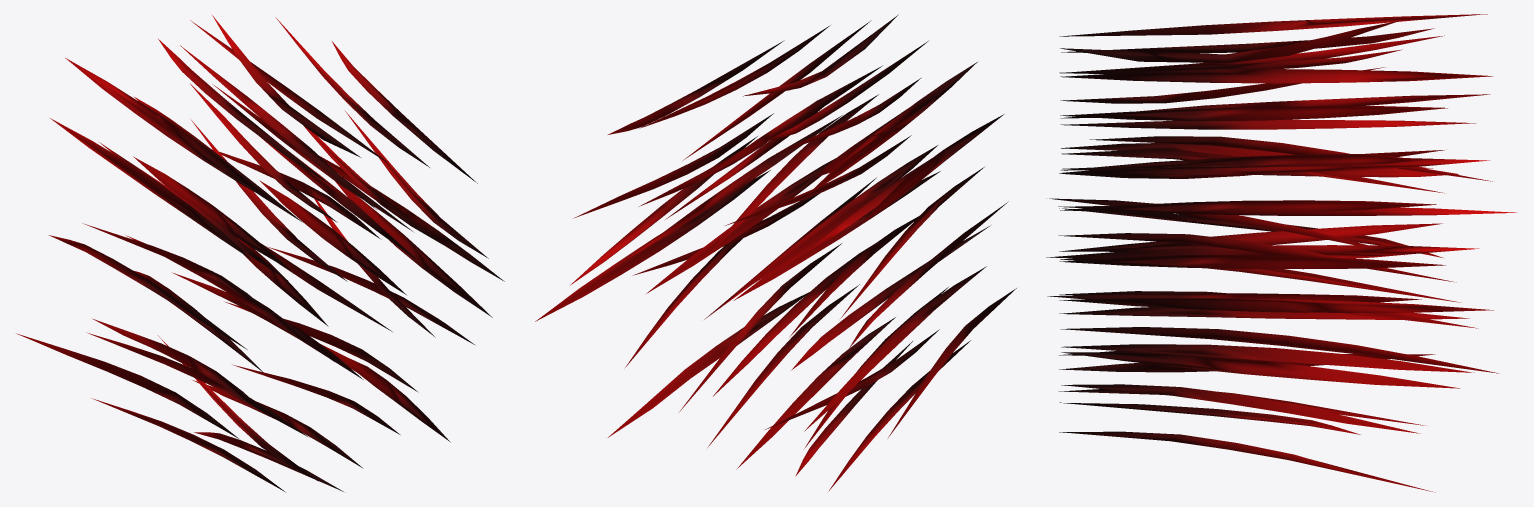
The model's file is GrassUltraMegaCool_005.fbx.
3 renders of one model, left to right at view 1: azimuth 30°, elevation 25°; view 2: azimuth 150°, elevation 25°; view 3: azimuth 270°, elevation 25°, orthographic. The views are drawn at different scales.
Visible parts, largest first — view 1: Grass; view 2: Grass; view 3: Grass.
Boxes of the visible parts, x1=… form: Grass: x1=16, y1=15, x2=504, y2=492; Grass: x1=535, y1=14, x2=1016, y2=491; Grass: x1=1046, y1=14, x2=1516, y2=492.
Bounding box in the file's own units: 0.8546 × 0.9368 × 0.9479.
